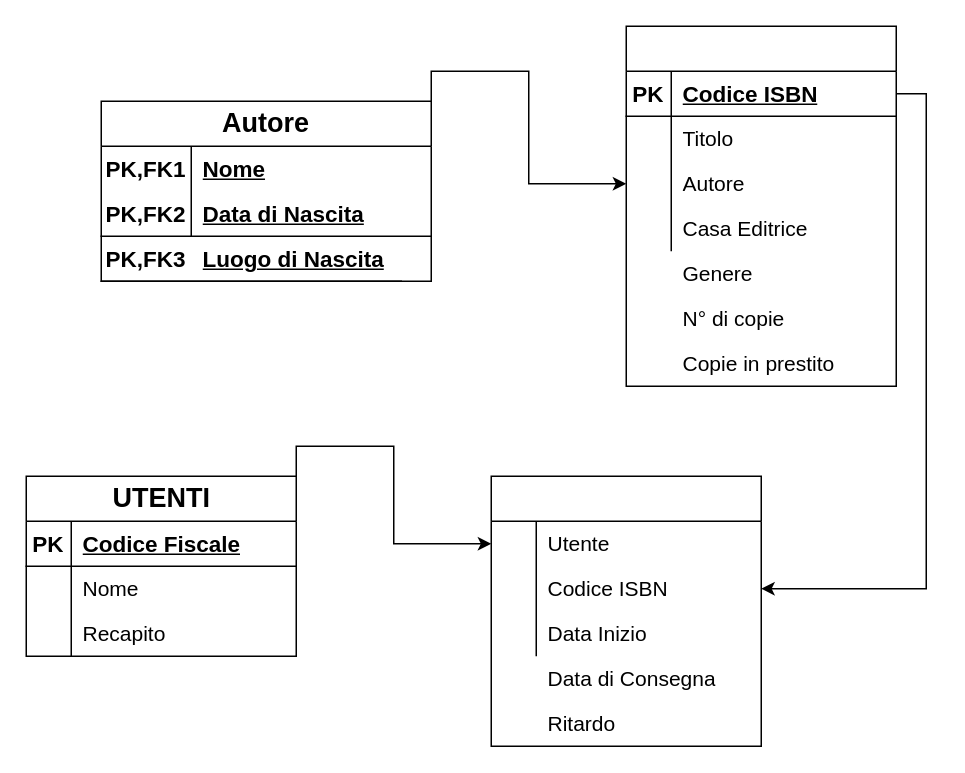
Some shapes in this 965 by 773 pixel diagram are drawn without their labels. Each missing label, with the box of its shape:
LIBRI: (625, 25, 896, 386)
PRESTITI: (490, 475, 761, 746)
